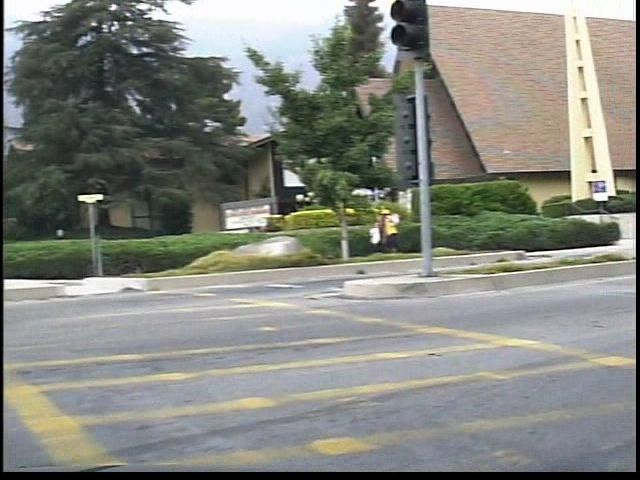person: (390, 203, 416, 258)
